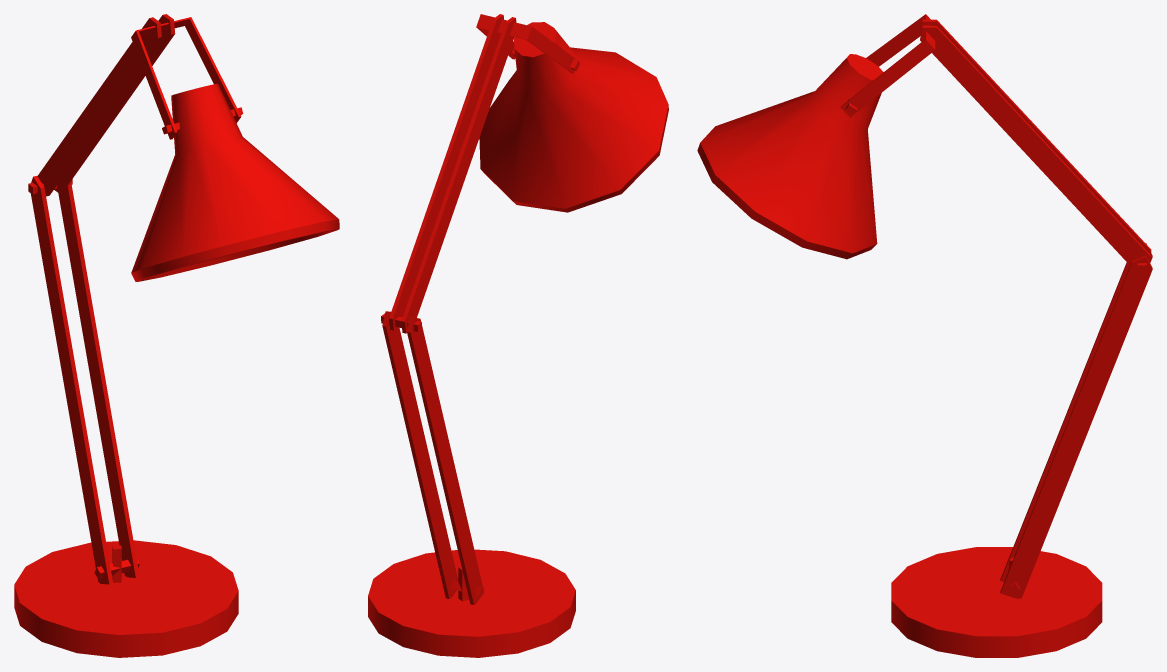
File: Desk_Lamp.fbx
3 renders of one model, left to right at view 1: azimuth 30°, elevation 25°; view 2: azimuth 150°, elevation 25°; view 3: azimuth 270°, elevation 25°, orthographic. The views are drawn at different scales.
Visible parts, largest first — view 1: DeskLamp; view 2: DeskLamp; view 3: DeskLamp.
Boxes of the visible parts, x1,y1,x2,y2 form: DeskLamp: (14,14,339,657); DeskLamp: (368,14,668,657); DeskLamp: (697,14,1152,657).
Bounding box in the file's own units: 1452 × 4483 × 3136.
